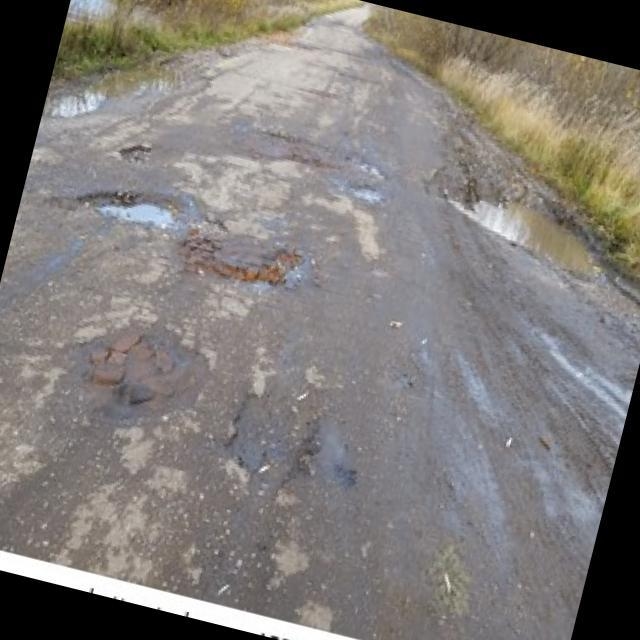Pothole: (59, 308, 218, 429), (175, 212, 312, 302), (223, 367, 324, 485), (76, 181, 180, 231), (118, 136, 154, 167), (347, 180, 385, 203)
